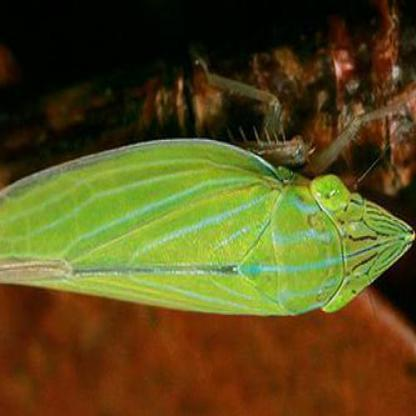green-leafhopper: (4, 136, 408, 312)
